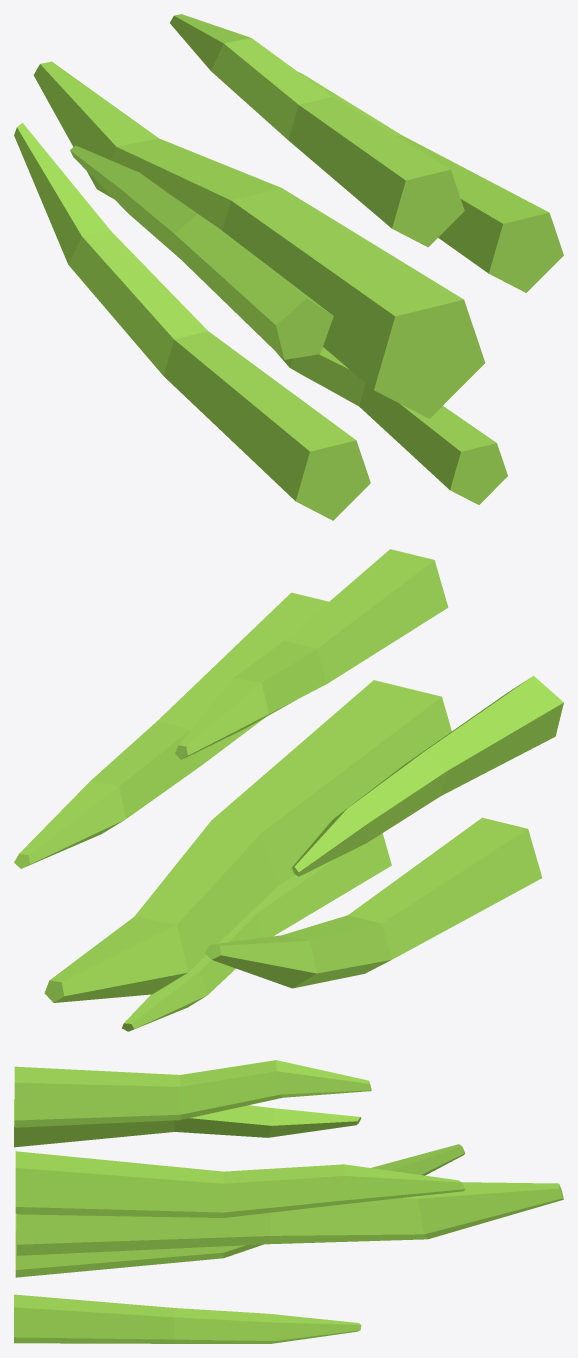
Rendered from Grass_Tall.fbx.
The picture shows the model from 3 angles, top to bottom: view 1: azimuth 30°, elevation 25°; view 2: azimuth 150°, elevation 25°; view 3: azimuth 270°, elevation 25°; orthographic projection. The views are drawn at different scales.
Parts seen in each view (by area): view 1: Grass_Tall; view 2: Grass_Tall; view 3: Grass_Tall.
Boxes of the visible parts, x1,y1,x2,y2 form: Grass_Tall: [14, 14, 563, 520]; Grass_Tall: [14, 549, 563, 1031]; Grass_Tall: [14, 1060, 563, 1343].
Bounding box in the file's own units: 17.42 × 20.12 × 39.18.
